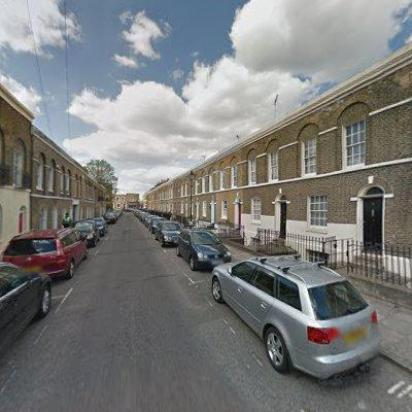stationary-car-onstreet: (208, 255, 384, 379), (0, 258, 54, 364), (0, 228, 90, 280), (174, 227, 236, 275), (68, 219, 102, 249), (154, 221, 184, 247), (85, 216, 107, 236), (148, 215, 166, 234), (144, 215, 162, 227), (103, 210, 115, 222)
